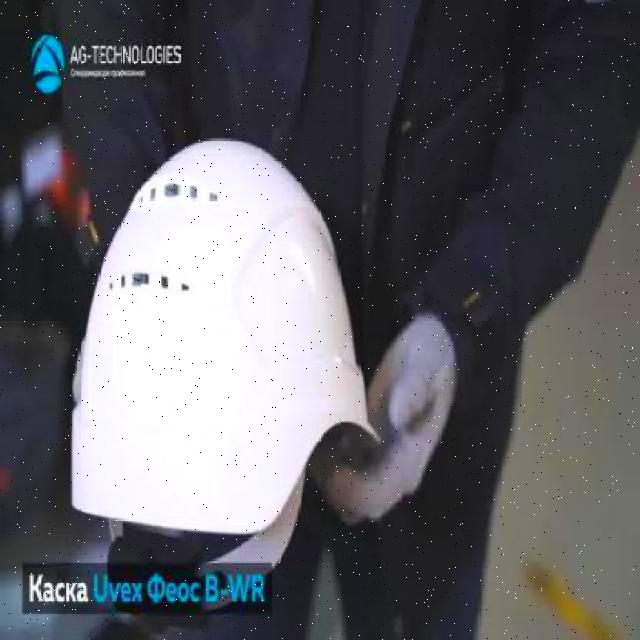Gloves: (310, 308, 458, 536)
Helmet: (71, 135, 382, 542)
